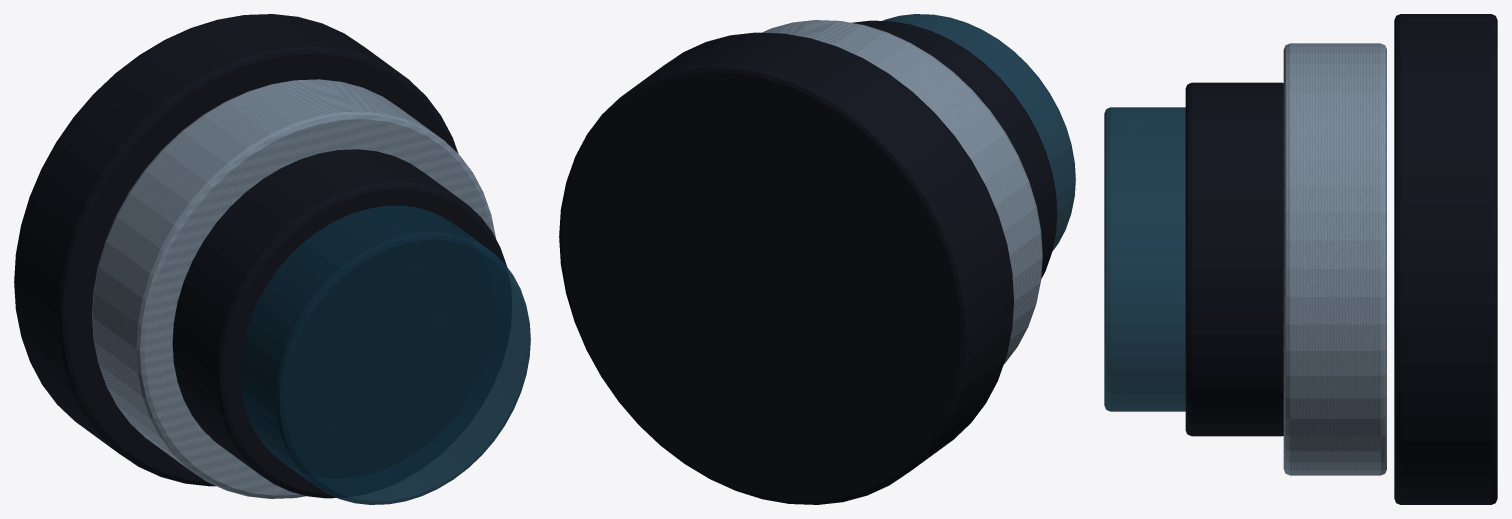
File: objectif-japonais.glb
3 views of the same model, side by side, from view 1: azimuth 30°, elevation 25°; view 2: azimuth 150°, elevation 25°; view 3: azimuth 270°, elevation 25° (orthographic). The views are drawn at different scales.
Parts seen in each view (by area): view 1: Anneau.002, Anneau.003, Anneau, Anneau.001; view 2: Anneau, Anneau.001, Anneau.002, Anneau.003; view 3: Anneau, Anneau.001, Anneau.002, Anneau.003.
Part boxes in pixels (bbox=[...]): Anneau.002: bbox=[172, 149, 506, 498]; Anneau.003: bbox=[240, 205, 530, 504]; Anneau: bbox=[14, 14, 458, 486]; Anneau.001: bbox=[92, 79, 495, 498]; Anneau: bbox=[559, 32, 1013, 504]; Anneau.001: bbox=[762, 20, 1042, 363]; Anneau.002: bbox=[852, 20, 1057, 278]; Anneau.003: bbox=[882, 14, 1075, 251]; Anneau: bbox=[1394, 14, 1497, 504]; Anneau.001: bbox=[1283, 43, 1386, 475]; Anneau.002: bbox=[1185, 82, 1283, 436]; Anneau.003: bbox=[1104, 107, 1185, 411].
Size of the model in its own units: 2 by 2 by 1.6.
Materials: 3 (3 with a texture image).
